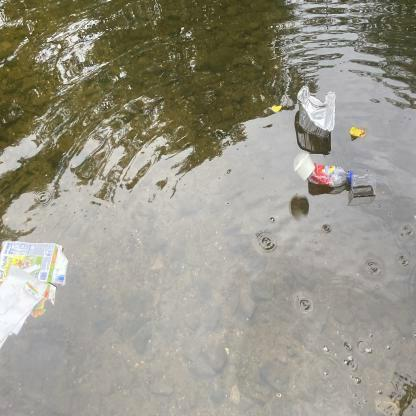Metal: (294, 80, 340, 146)
Plastic: (306, 162, 354, 188), (348, 171, 378, 200), (290, 148, 310, 172)
Trash: (0, 262, 50, 352), (295, 153, 316, 182)
